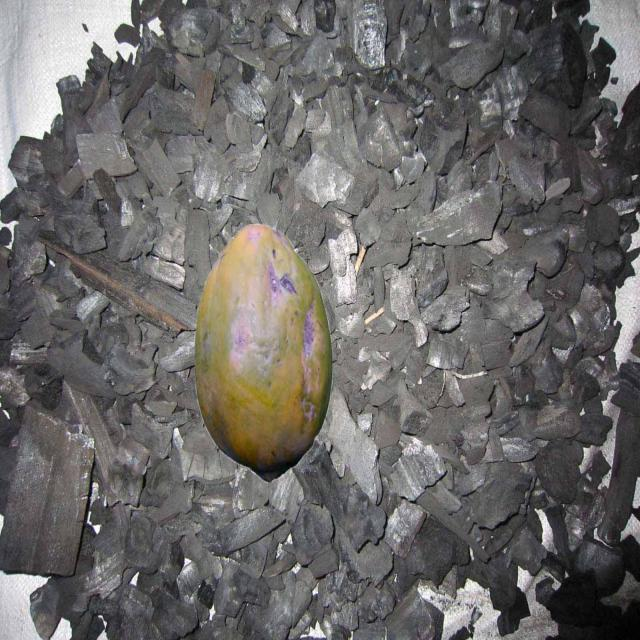Pepaya rippen: (187, 215, 326, 488)
